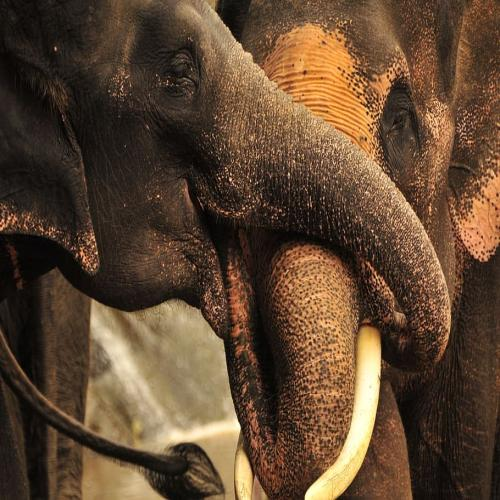asian_elephant-endangered: (0, 0, 454, 500), (214, 0, 500, 494)
